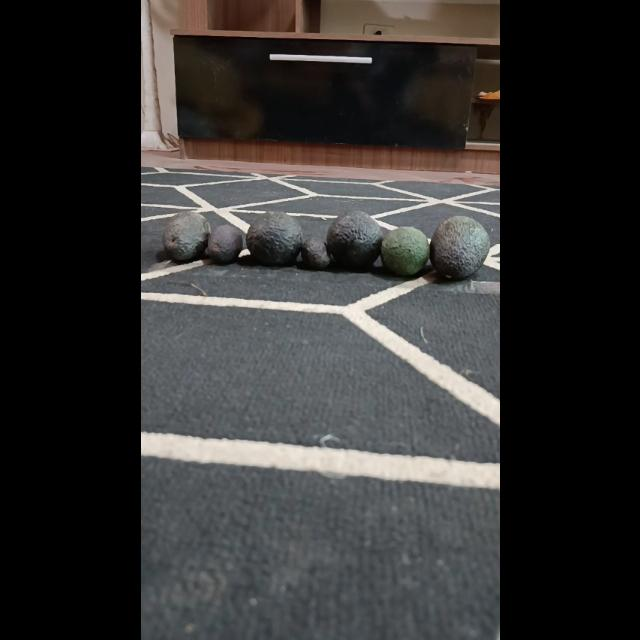Primera: (429, 216, 491, 280), (325, 210, 383, 268), (244, 212, 302, 266)
Segunda: (160, 212, 210, 262), (380, 226, 430, 276)
Tercera: (204, 223, 243, 264), (299, 237, 331, 269)
